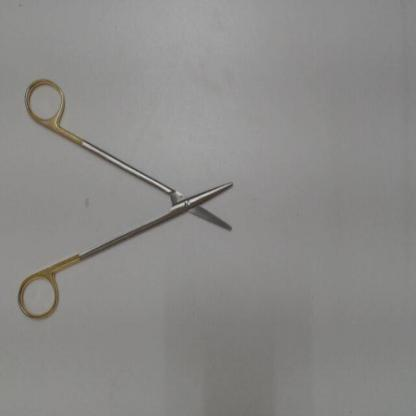7 Metzenbaum Scissors: (16, 72, 240, 327)
